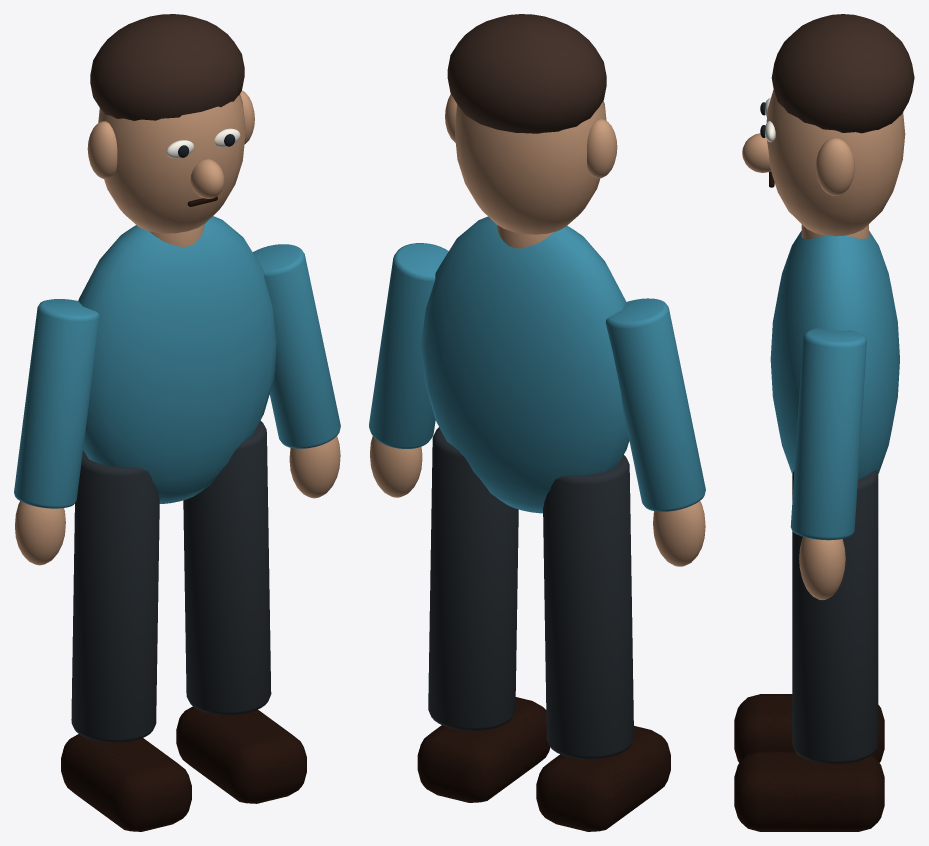
Rendered from blender-avatar.glb.
3 renders of one model, left to right at view 1: azimuth 30°, elevation 25°; view 2: azimuth 150°, elevation 25°; view 3: azimuth 270°, elevation 25°, orthographic. The views are drawn at different scales.
Visible parts, largest first — view 1: asset_person_blue, asset_person_rubber, asset_person_skin, asset_person_leather, asset_person_hair; view 2: asset_person_blue, asset_person_rubber, asset_person_skin, asset_person_leather, asset_person_hair; view 3: asset_person_blue, asset_person_rubber, asset_person_skin, asset_person_leather, asset_person_hair.
Boxes of the visible parts, box(x1,y1,x2,y2) form: asset_person_blue: box(14, 216, 340, 508); asset_person_rubber: box(71, 420, 271, 742); asset_person_skin: box(15, 90, 340, 565); asset_person_leather: box(61, 196, 306, 831); asset_person_hair: box(90, 14, 244, 120); asset_person_blue: box(369, 216, 705, 513); asset_person_rubber: box(428, 427, 633, 759); asset_person_skin: box(370, 94, 705, 566); asset_person_leather: box(417, 697, 670, 831); asset_person_hair: box(447, 14, 606, 133); asset_person_blue: box(770, 230, 899, 540); asset_person_rubber: box(792, 470, 878, 764); asset_person_skin: box(742, 89, 905, 600); asset_person_leather: box(734, 171, 884, 831); asset_person_hair: box(771, 14, 914, 133).
Size of the model in its own units: 0.724 by 1.64 by 0.348.
7 materials, 1 textured.
